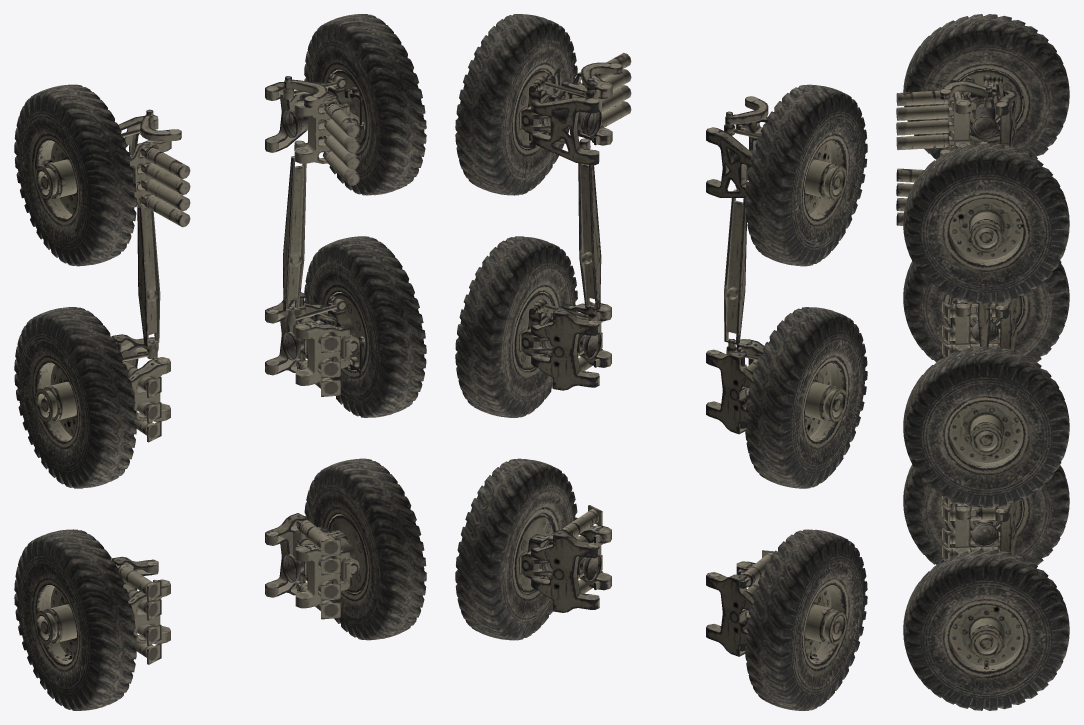
Rendered from Chassis.glb.
The picture shows the model from 3 angles, left to right: view 1: azimuth 30°, elevation 25°; view 2: azimuth 150°, elevation 25°; view 3: azimuth 270°, elevation 25°; orthographic projection. The views are drawn at different scales.
Parts seen in each view (by area): view 1: set_2_group_0, set_3_group_1, set_0_group_0, set_1_group_0, set_2_group_1, set_3_group_0; view 2: set_2_group_0, set_3_group_1, set_0_group_0, set_1_group_0, set_2_group_1, set_3_group_0; view 3: set_3_group_1, set_2_group_0, set_3_group_0, set_1_group_0, set_2_group_1, set_0_group_0.
Part boxes in pixels (left/top/right/bottom): set_2_group_0: left=14, top=84, right=136, bottom=710; set_3_group_1: left=304, top=14, right=426, bottom=640; set_0_group_0: left=265, top=70, right=366, bottom=619; set_1_group_0: left=112, top=109, right=190, bottom=664; set_2_group_1: left=31, top=133, right=80, bottom=672; set_3_group_0: left=322, top=62, right=369, bottom=601; set_2_group_0: left=745, top=84, right=867, bottom=710; set_3_group_1: left=455, top=14, right=577, bottom=640; set_0_group_0: left=515, top=53, right=631, bottom=612; set_1_group_0: left=706, top=96, right=774, bottom=656; set_2_group_1: left=801, top=133, right=850, bottom=672; set_3_group_0: left=512, top=62, right=559, bottom=601; set_3_group_1: left=903, top=143, right=1069, bottom=710; set_2_group_0: left=903, top=14, right=1069, bottom=565; set_3_group_0: left=942, top=192, right=1030, bottom=679; set_1_group_0: left=896, top=69, right=1022, bottom=560; set_2_group_1: left=942, top=63, right=1030, bottom=548; set_0_group_0: left=896, top=149, right=991, bottom=348.
Size of the model in its own units: 2.54 by 4.18 by 1.18.
Materials: 6 (6 with a texture image).
